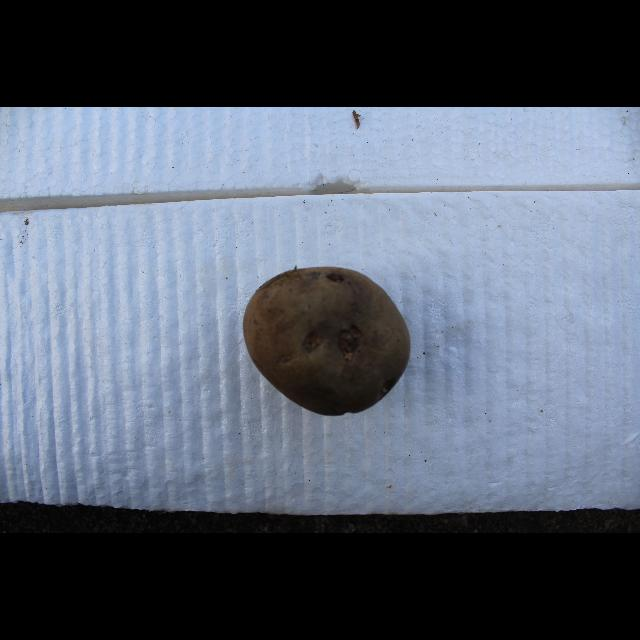Diseased-fungal potato: (240, 265, 414, 421)
